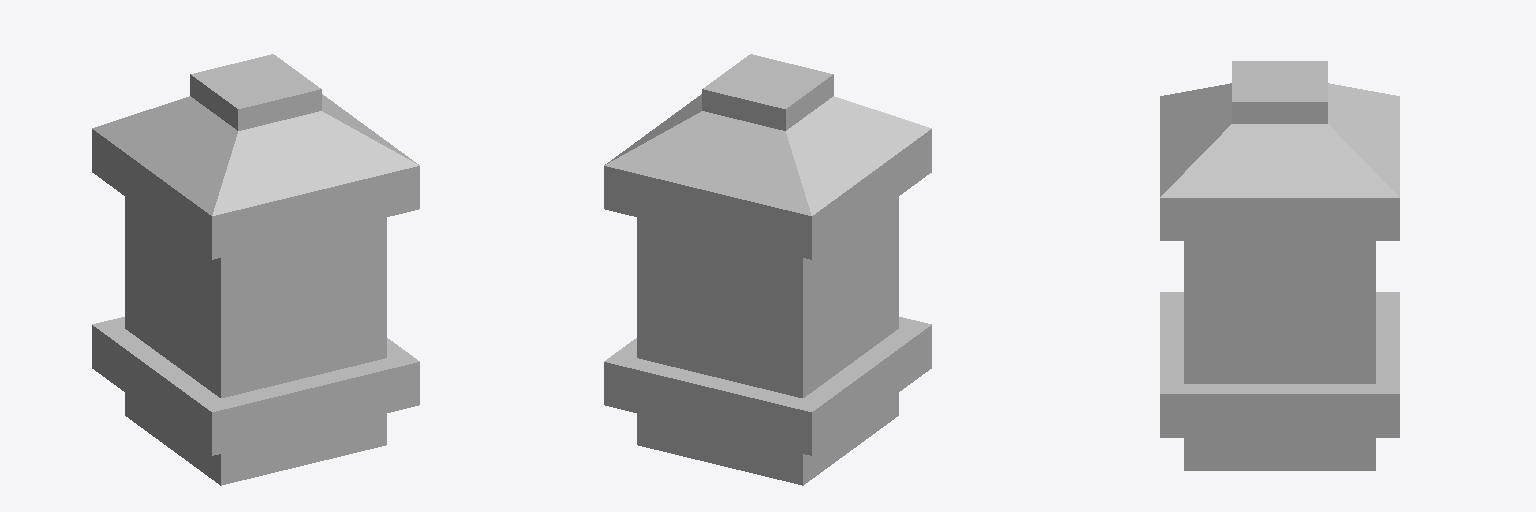
File: e_lantern.obj
The picture shows the model from 3 angles: view 1: azimuth 30°, elevation 25°; view 2: azimuth 150°, elevation 25°; view 3: azimuth 270°, elevation 25°; orthographic projection.
Visible parts, largest first — view 1: base, off; view 2: base, off; view 3: base, off.
Part boxes in pixels (x1,y1,x2,y2): base: (92, 54, 419, 485); off: (125, 197, 386, 397); base: (604, 54, 931, 485); off: (637, 197, 898, 397); base: (1160, 61, 1399, 470); off: (1184, 241, 1375, 383).
Bounding box in the file's own units: 0.625 × 1 × 0.625.